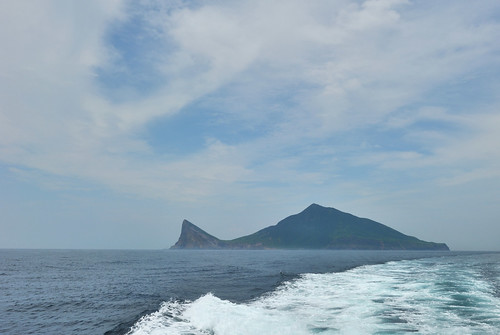turtleIslandLeft: (173, 202, 452, 253)
